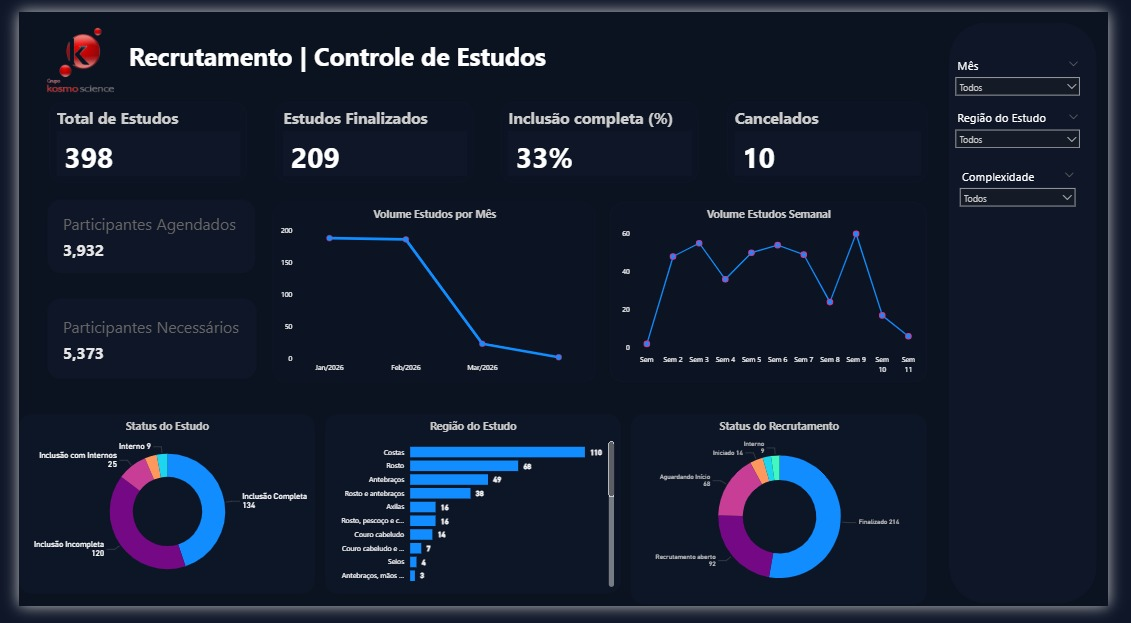

The page's visual inventory and layout, read from the dashboard file:
{"tool":"powerbi","page":{"name":"Dashboard","canvas":[1650,900],"ordinal":0},"visuals":[{"type":"donutChart","title":"Status do Recrutamento","fields":{"Category":["BASE_DADOS.Status do Recrutamento"],"Y":["CountNonNull(BASE_DADOS.RPP)"]},"box":[928,608,448,288],"z":0},{"type":"donutChart","title":"Status do Estudo","fields":{"Category":["BASE_DADOS.Status do Estudo"],"Y":["CountNonNull(BASE_DADOS.RPP)"]},"box":[0,608,448,272],"z":1000},{"type":"cardVisual","title":"Estudos Finalizados","fields":{"Data":["Count(BASE_DADOS.RPP)"]},"box":[387.9,137.3,300,122.1],"z":2000},{"type":"cardVisual","title":"Inclusão completa (%)","fields":{"Data":["BASE_DADOS.Inclusao Completa %"]},"box":[730,137.3,300,122],"z":3000},{"type":"cardVisual","title":"Cancelados","fields":{"Data":["Count(BASE_DADOS.RPP)"]},"box":[1072,137.3,304,122],"z":4000},{"type":"lineChart","title":"Volume Estudos por Mês","fields":{"Category":["BASE_DADOS.MesAno"],"Y":["Count(BASE_DADOS.RPP)"]},"box":[384,288,490,272],"z":5000},{"type":"shape","box":[1408,16,224,880],"z":6000},{"type":"slicer","fields":{"Values":["BASE_DADOS.MesAno"]},"box":[1408,64,208,80],"z":7000},{"type":"slicer","fields":{"Values":["BASE_DADOS.Região do Estudo"]},"box":[1408,144,208,80],"z":8000},{"type":"cardVisual","fields":{"Data":["BASE_DADOS.Participantes_Agendados_Display"]},"box":[44.2,283,314.9,111.4],"z":9000},{"type":"cardVisual","fields":{"Data":["BASE_DADOS.Participantes_Necessarios_Display"]},"box":[42.5,433.4,316.6,122.1],"z":10000},{"type":"slicer","title":"Complexidade","fields":{"Values":["BASE_DADOS.Complexidade","BASE_DADOS.RPP"]},"box":[1408,224,208,80],"z":11000},{"type":"lineChart","title":"Volume Estudos Semanal","fields":{"Category":["BASE_DADOS.Semana_Label"],"Y":["Count(BASE_DADOS.RPP)"]},"box":[896,288,480,272],"z":12000},{"type":"image","box":[0,0,185.7,155.7],"z":13000},{"type":"textbox","box":[161,35.4,728.8,65.4],"z":14000},{"type":"barChart","title":"Região do Estudo","fields":{"Category":["BASE_DADOS.Região do Estudo"],"Y":["CountNonNull(BASE_DADOS.RPP)"]},"box":[464,608,448,272],"z":15000},{"type":"cardVisual","title":"Total de Estudos","fields":{"Data":["Count(BASE_DADOS.RPP)"]},"box":[45.9,137.3,300,122.1],"z":16000}]}

Visuals, with their boxes in screenshot pixels (x1, y1, x2, y2), scaled from the page's 1650x900 canvas onto the 1131x623 screenshot:
"Status do Recrutamento" donutChart: {"x1": 636, "y1": 421, "x2": 943, "y2": 620}
"Status do Estudo" donutChart: {"x1": 0, "y1": 421, "x2": 307, "y2": 609}
"Estudos Finalizados" cardVisual: {"x1": 266, "y1": 95, "x2": 472, "y2": 180}
"Inclusão completa (%)" cardVisual: {"x1": 500, "y1": 95, "x2": 706, "y2": 179}
"Cancelados" cardVisual: {"x1": 735, "y1": 95, "x2": 943, "y2": 179}
"Volume Estudos por Mês" lineChart: {"x1": 263, "y1": 199, "x2": 599, "y2": 388}
shape: {"x1": 965, "y1": 11, "x2": 1119, "y2": 620}
slicer - BASE_DADOS.MesAno: {"x1": 965, "y1": 44, "x2": 1108, "y2": 100}
slicer - BASE_DADOS.Região do Estudo: {"x1": 965, "y1": 100, "x2": 1108, "y2": 155}
cardVisual - BASE_DADOS.Participantes_Agendados_Display: {"x1": 30, "y1": 196, "x2": 246, "y2": 273}
cardVisual - BASE_DADOS.Participantes_Necessarios_Display: {"x1": 29, "y1": 300, "x2": 246, "y2": 385}
"Complexidade" slicer: {"x1": 965, "y1": 155, "x2": 1108, "y2": 210}
"Volume Estudos Semanal" lineChart: {"x1": 614, "y1": 199, "x2": 943, "y2": 388}
image: {"x1": 0, "y1": 0, "x2": 127, "y2": 108}
textbox: {"x1": 110, "y1": 25, "x2": 610, "y2": 70}
"Região do Estudo" barChart: {"x1": 318, "y1": 421, "x2": 625, "y2": 609}
"Total de Estudos" cardVisual: {"x1": 31, "y1": 95, "x2": 237, "y2": 180}
